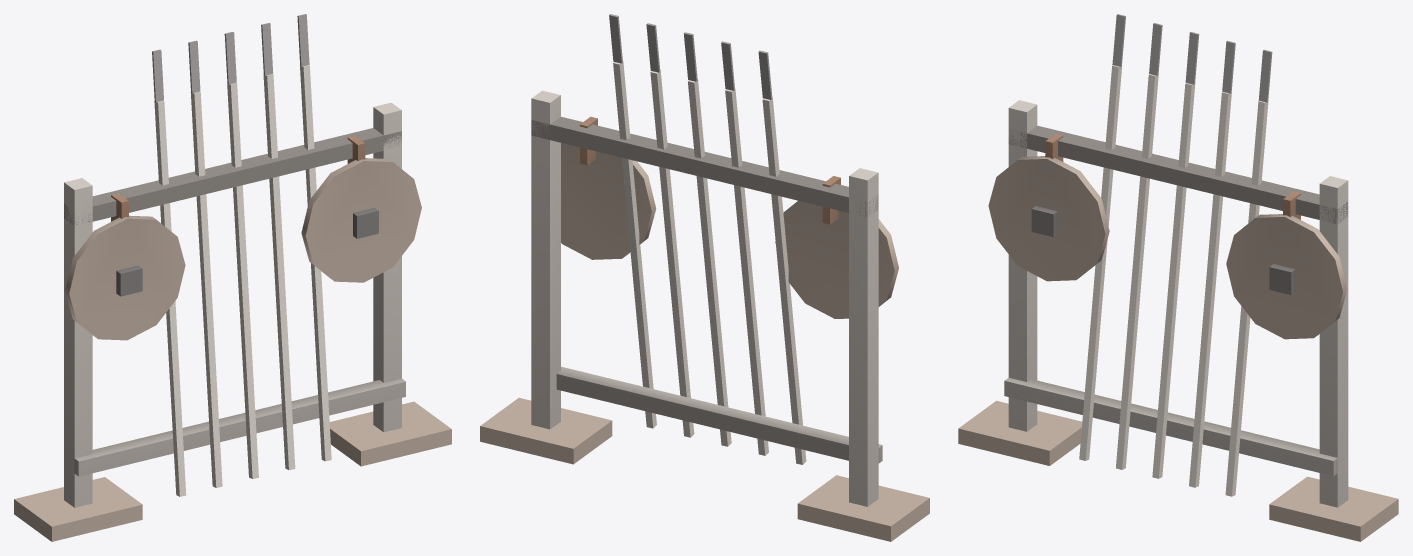
File: kit_rack.glb
3 renders of one model, left to right at view 1: azimuth 30°, elevation 25°; view 2: azimuth 150°, elevation 25°; view 3: azimuth 330°, elevation 25°, orthographic. The views are drawn at different scales.
Visible parts, largest first — view 1: kit_rack; view 2: kit_rack; view 3: kit_rack.
Part boxes in pixels (x1,y1,x2,y2): kit_rack: (14,14,451,541); kit_rack: (480,14,929,541); kit_rack: (958,14,1398,541).
Bounding box in the file's own units: 2.2 × 2.3 × 0.3973.
